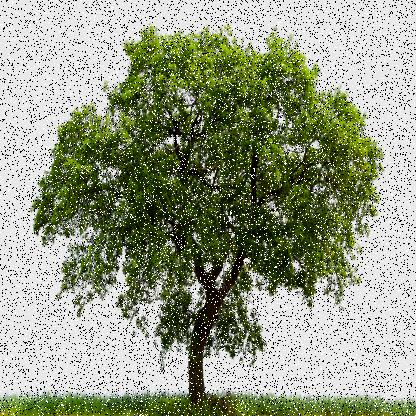Tree: (29, 23, 384, 399)
